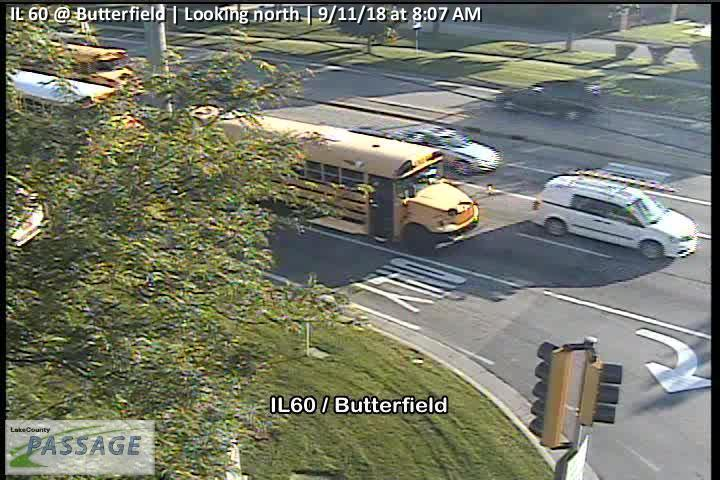Bus: (215, 107, 480, 252)
SUV: (531, 173, 697, 261)
Sedan: (16, 39, 145, 98), (401, 126, 502, 177)
